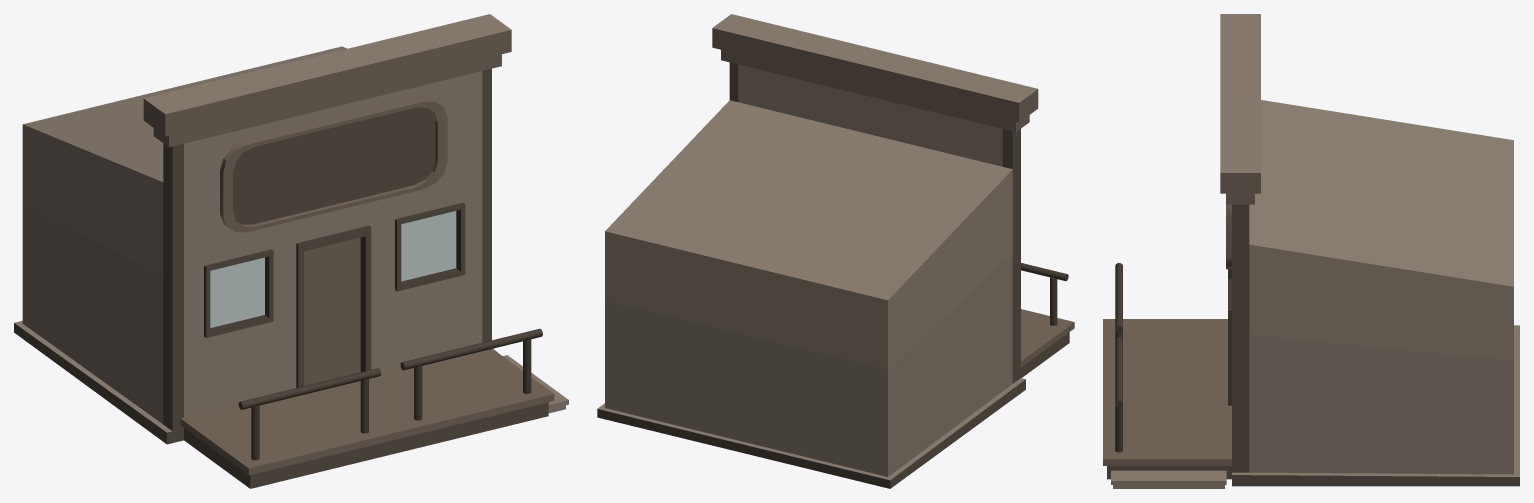
The model's file is Casita4.fbx.
3 views of the same model, side by side, from view 1: azimuth 30°, elevation 25°; view 2: azimuth 150°, elevation 25°; view 3: azimuth 270°, elevation 25° (orthographic). The views are drawn at different scales.
Visible parts, largest first — view 1: Casita4; view 2: Casita4; view 3: Casita4.
Boxes of the visible parts, box(x1,y1,x2,y2) form: Casita4: box(14, 14, 568, 488); Casita4: box(597, 14, 1074, 488); Casita4: box(1103, 14, 1519, 488).
Size of the model in its own units: 96.38 by 89.62 by 107.
